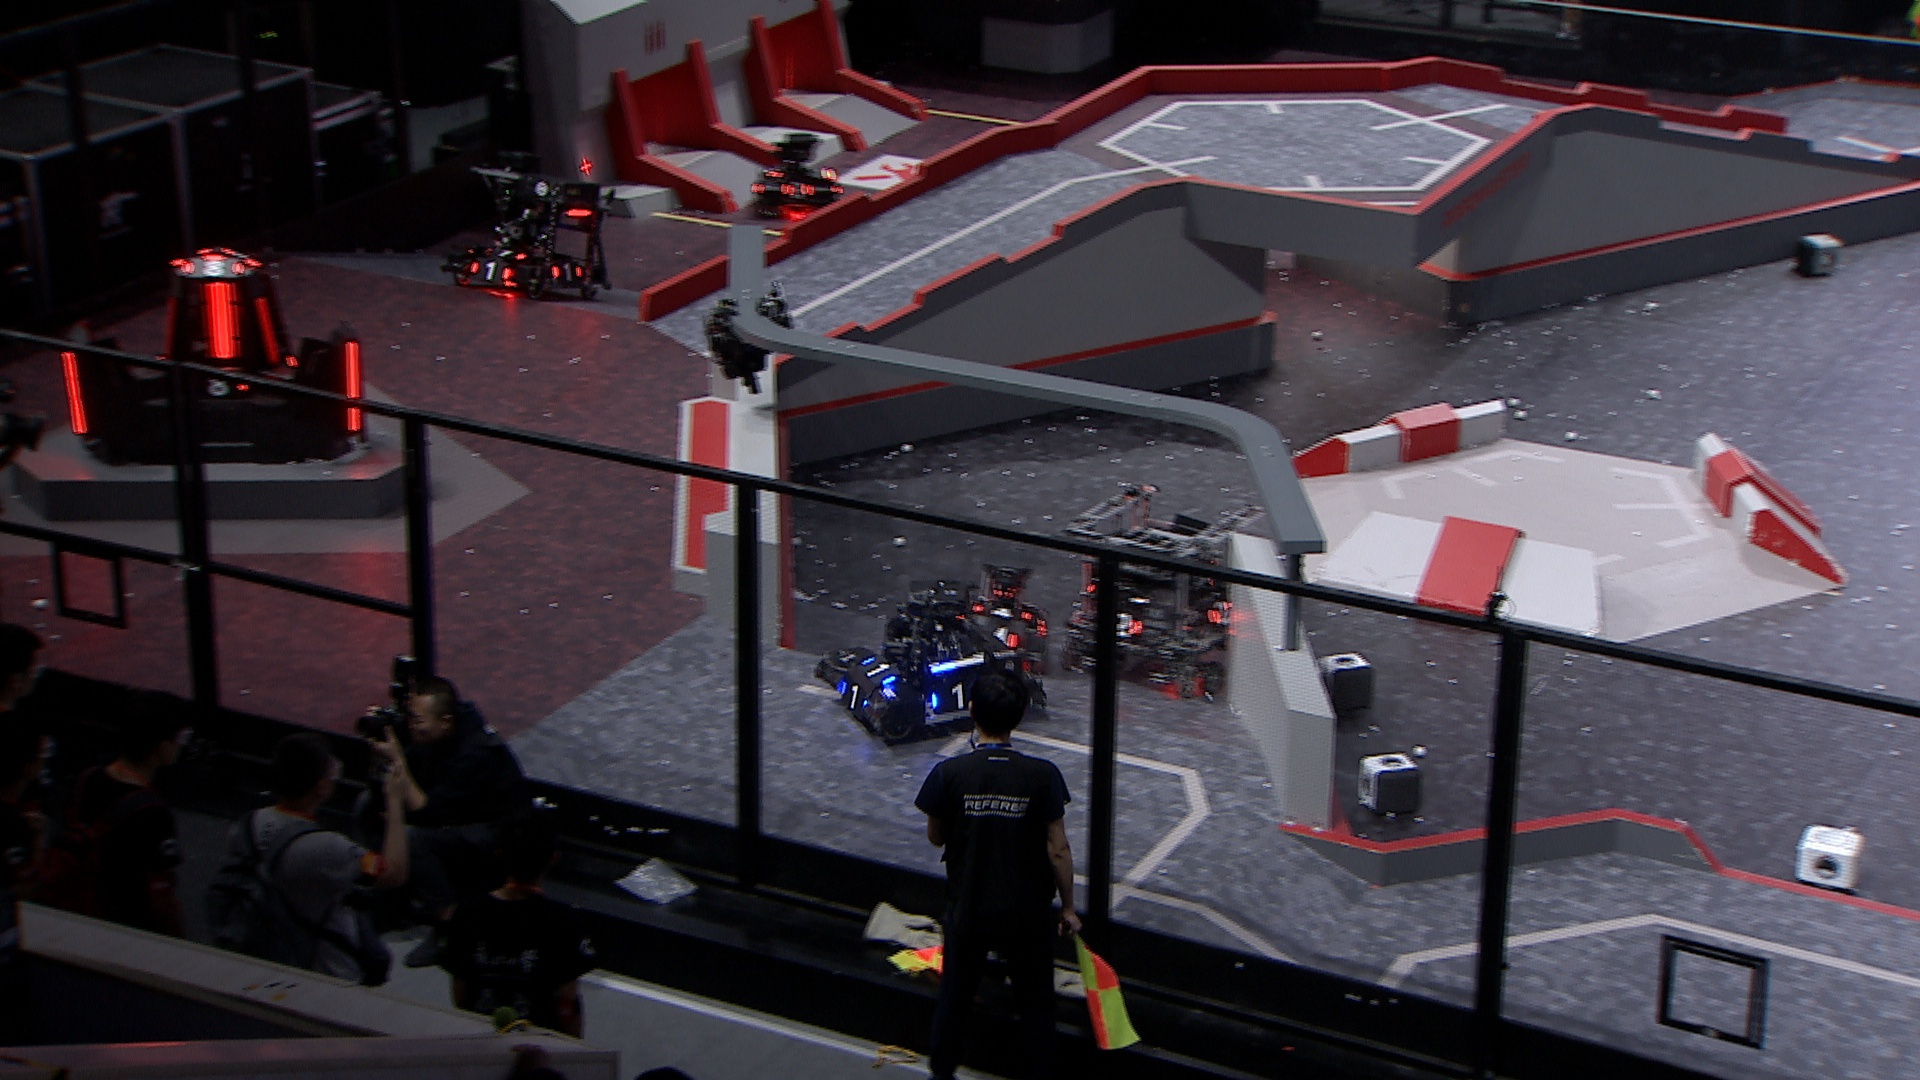armor: (199, 281, 244, 363), (59, 351, 91, 439), (252, 295, 286, 365), (344, 339, 367, 436), (199, 373, 255, 401), (177, 257, 249, 278), (160, 295, 181, 367), (927, 680, 969, 712), (969, 603, 1033, 622), (463, 262, 517, 285), (837, 680, 872, 713), (1110, 611, 1145, 641), (862, 655, 898, 684), (986, 626, 1022, 650), (546, 262, 584, 282), (778, 181, 814, 202), (1207, 600, 1233, 626), (483, 248, 533, 261)
base: (51, 245, 377, 473)
car: (1062, 481, 1269, 688), (816, 574, 1048, 746), (448, 153, 622, 302), (948, 559, 1054, 661), (750, 131, 847, 222)
watcher: (702, 281, 796, 396)
